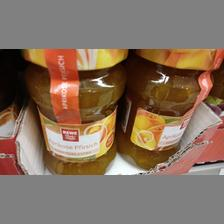Marmelade: (20, 48, 128, 174), (117, 48, 223, 168)
